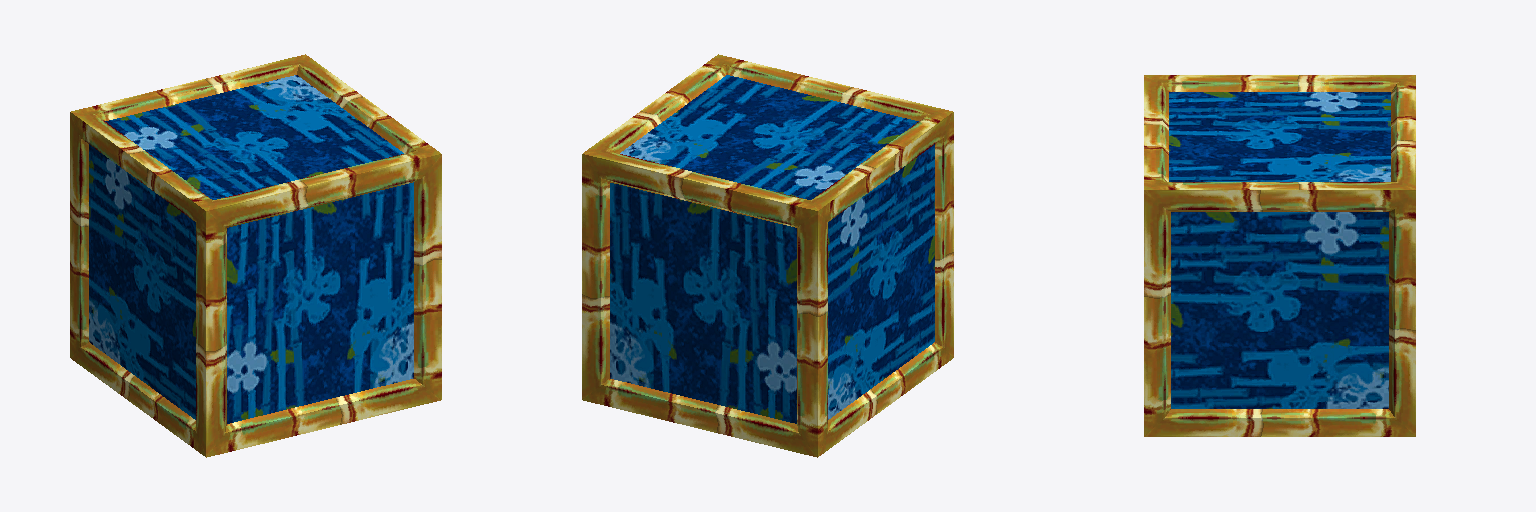
3 renders of one model, left to right at view 1: azimuth 30°, elevation 25°; view 2: azimuth 150°, elevation 25°; view 3: azimuth 270°, elevation 25°, orthographic.
Bounding box in the file's own units: 2.11 × 2.11 × 2.11.
1 materials, 1 textured.